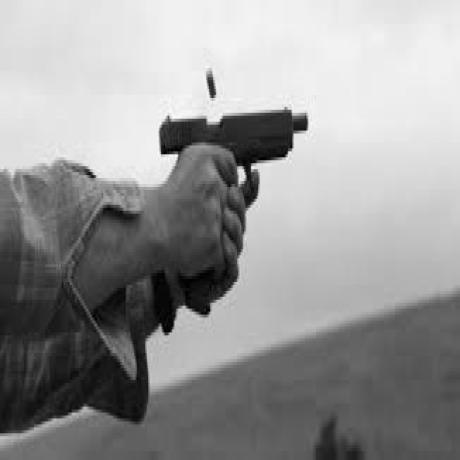Guns: (158, 104, 309, 315)
